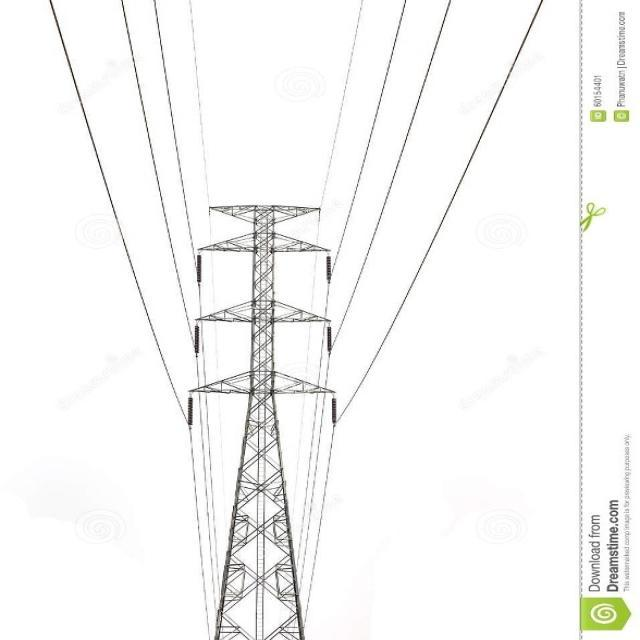non-critical vegetation: (166, 186, 350, 588)
